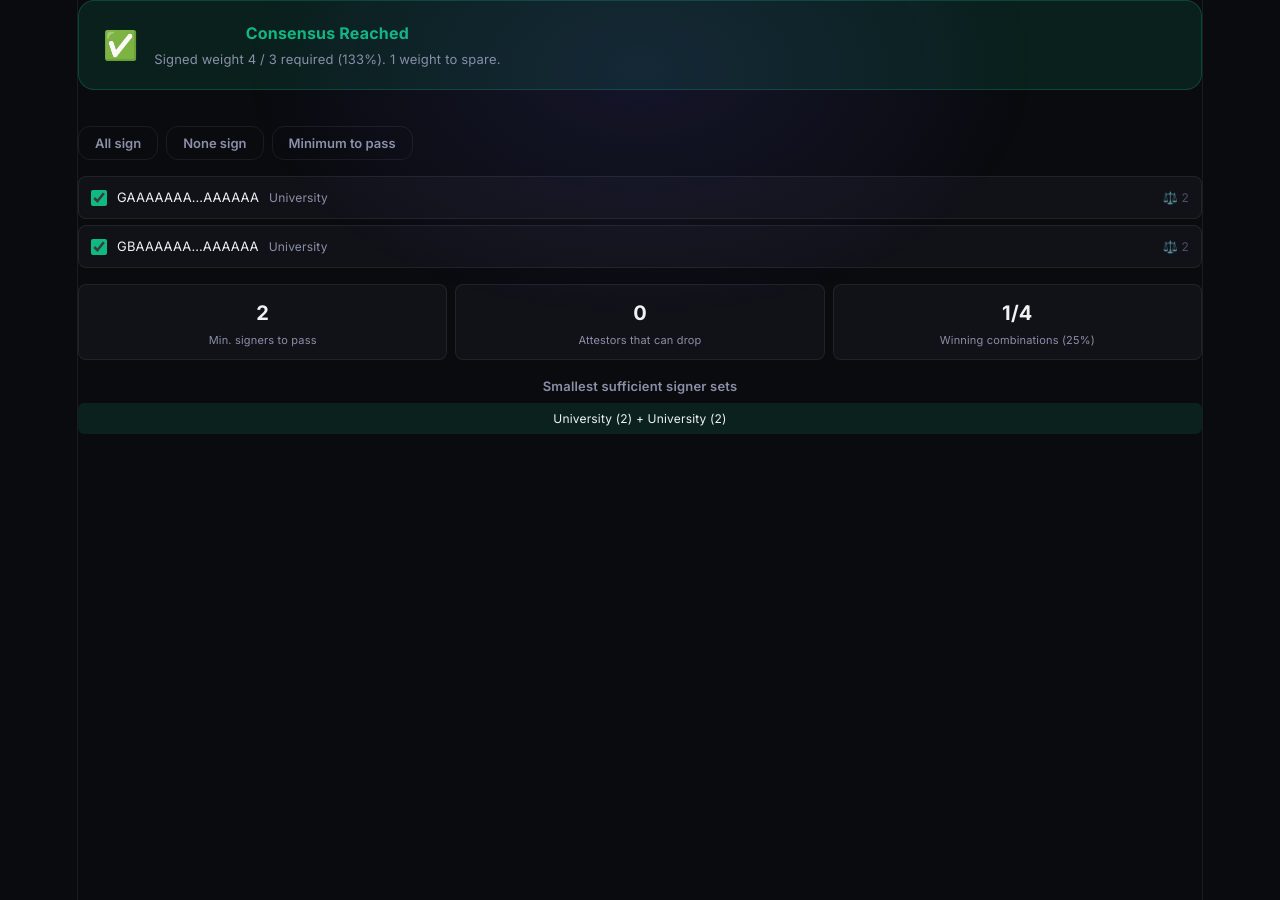
Test: <SliceSimulator /> › flips to not reached when no one signs
Click the button "None sign". click: (215,143)
box: [166,126,264,160]
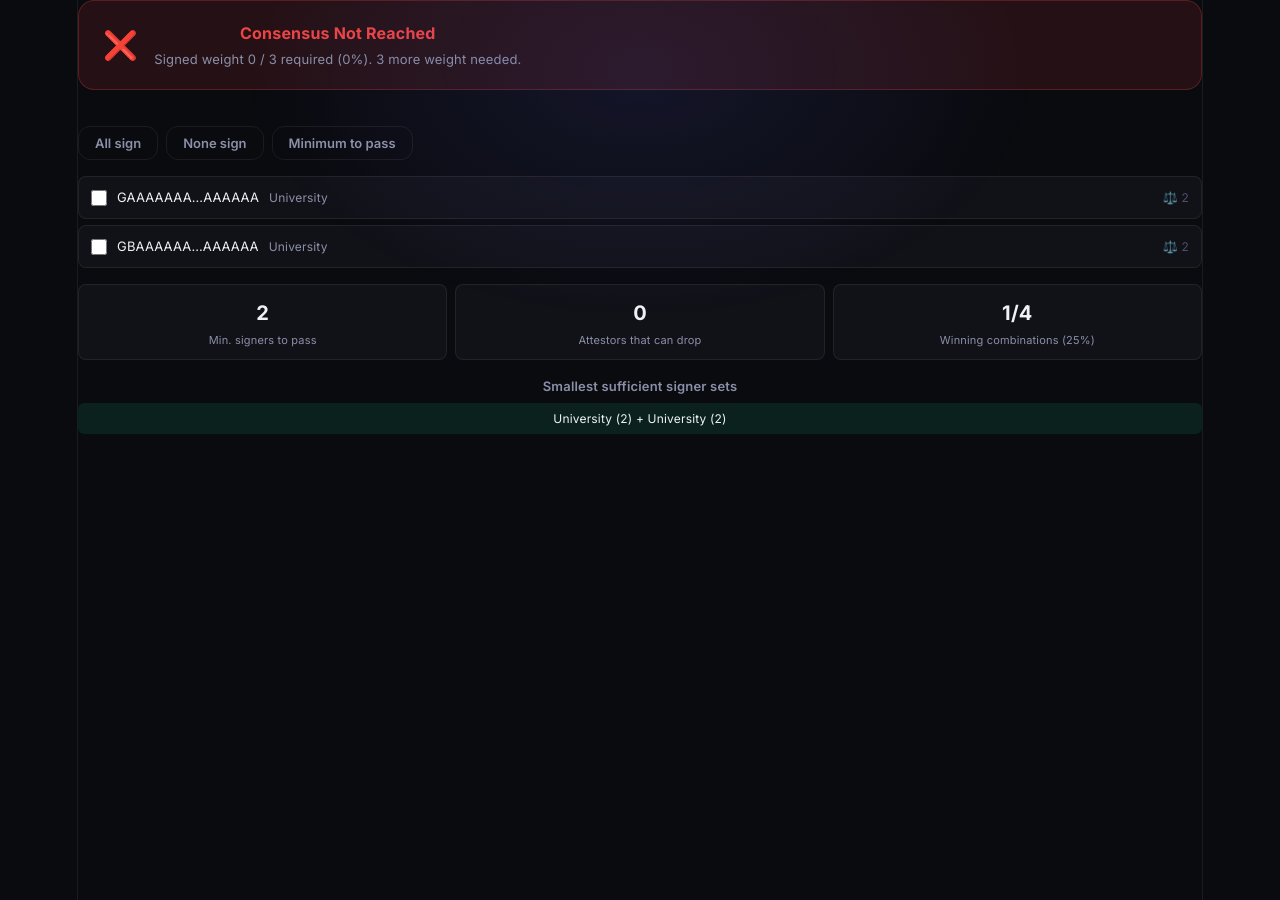
Expected: the text "Consensus Not Reached" is shown, [240,23,436,43]
